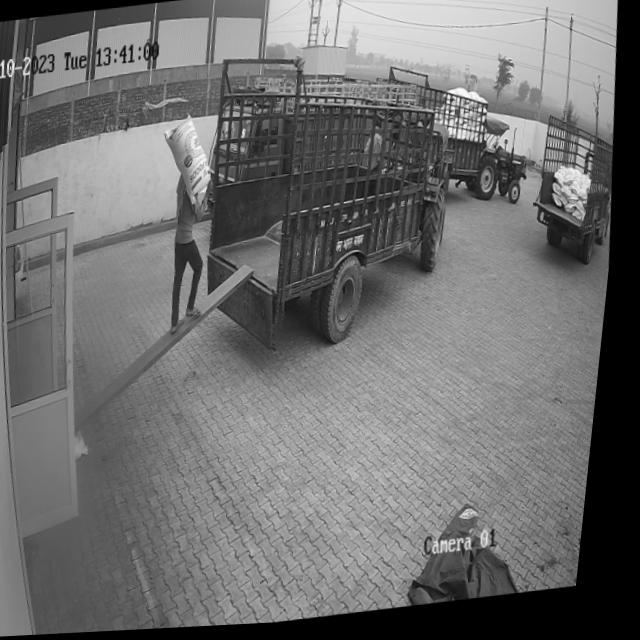sack: (159, 112, 221, 207)
